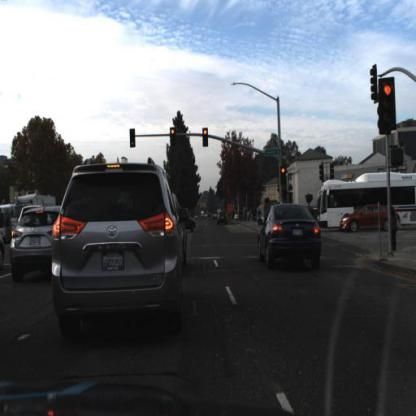car: (51, 159, 188, 335), (317, 168, 415, 236), (256, 199, 320, 271), (10, 205, 64, 280), (340, 202, 401, 236), (179, 199, 200, 239), (13, 203, 43, 229), (177, 208, 198, 236), (1, 222, 8, 279), (216, 209, 230, 230), (217, 210, 231, 229)
pedestrian: (389, 206, 400, 254), (257, 208, 263, 225)
trafficLight: (130, 127, 137, 149)
trafficLight-Red: (378, 76, 398, 140), (202, 126, 210, 149), (170, 127, 178, 147), (281, 166, 287, 184)
truck: (316, 175, 379, 228), (13, 186, 60, 226)
